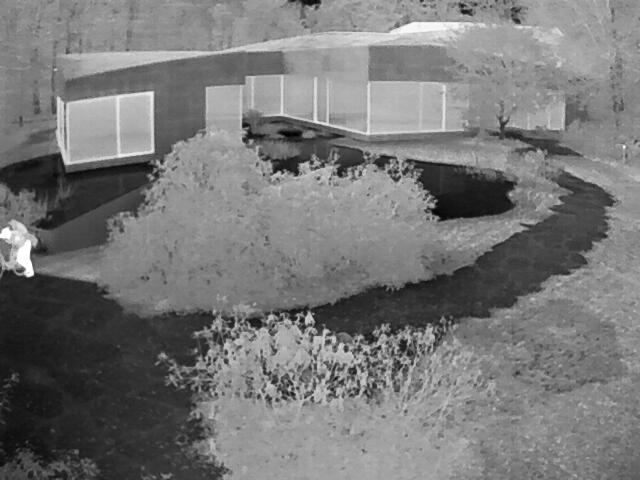person: (0, 223, 35, 276)
